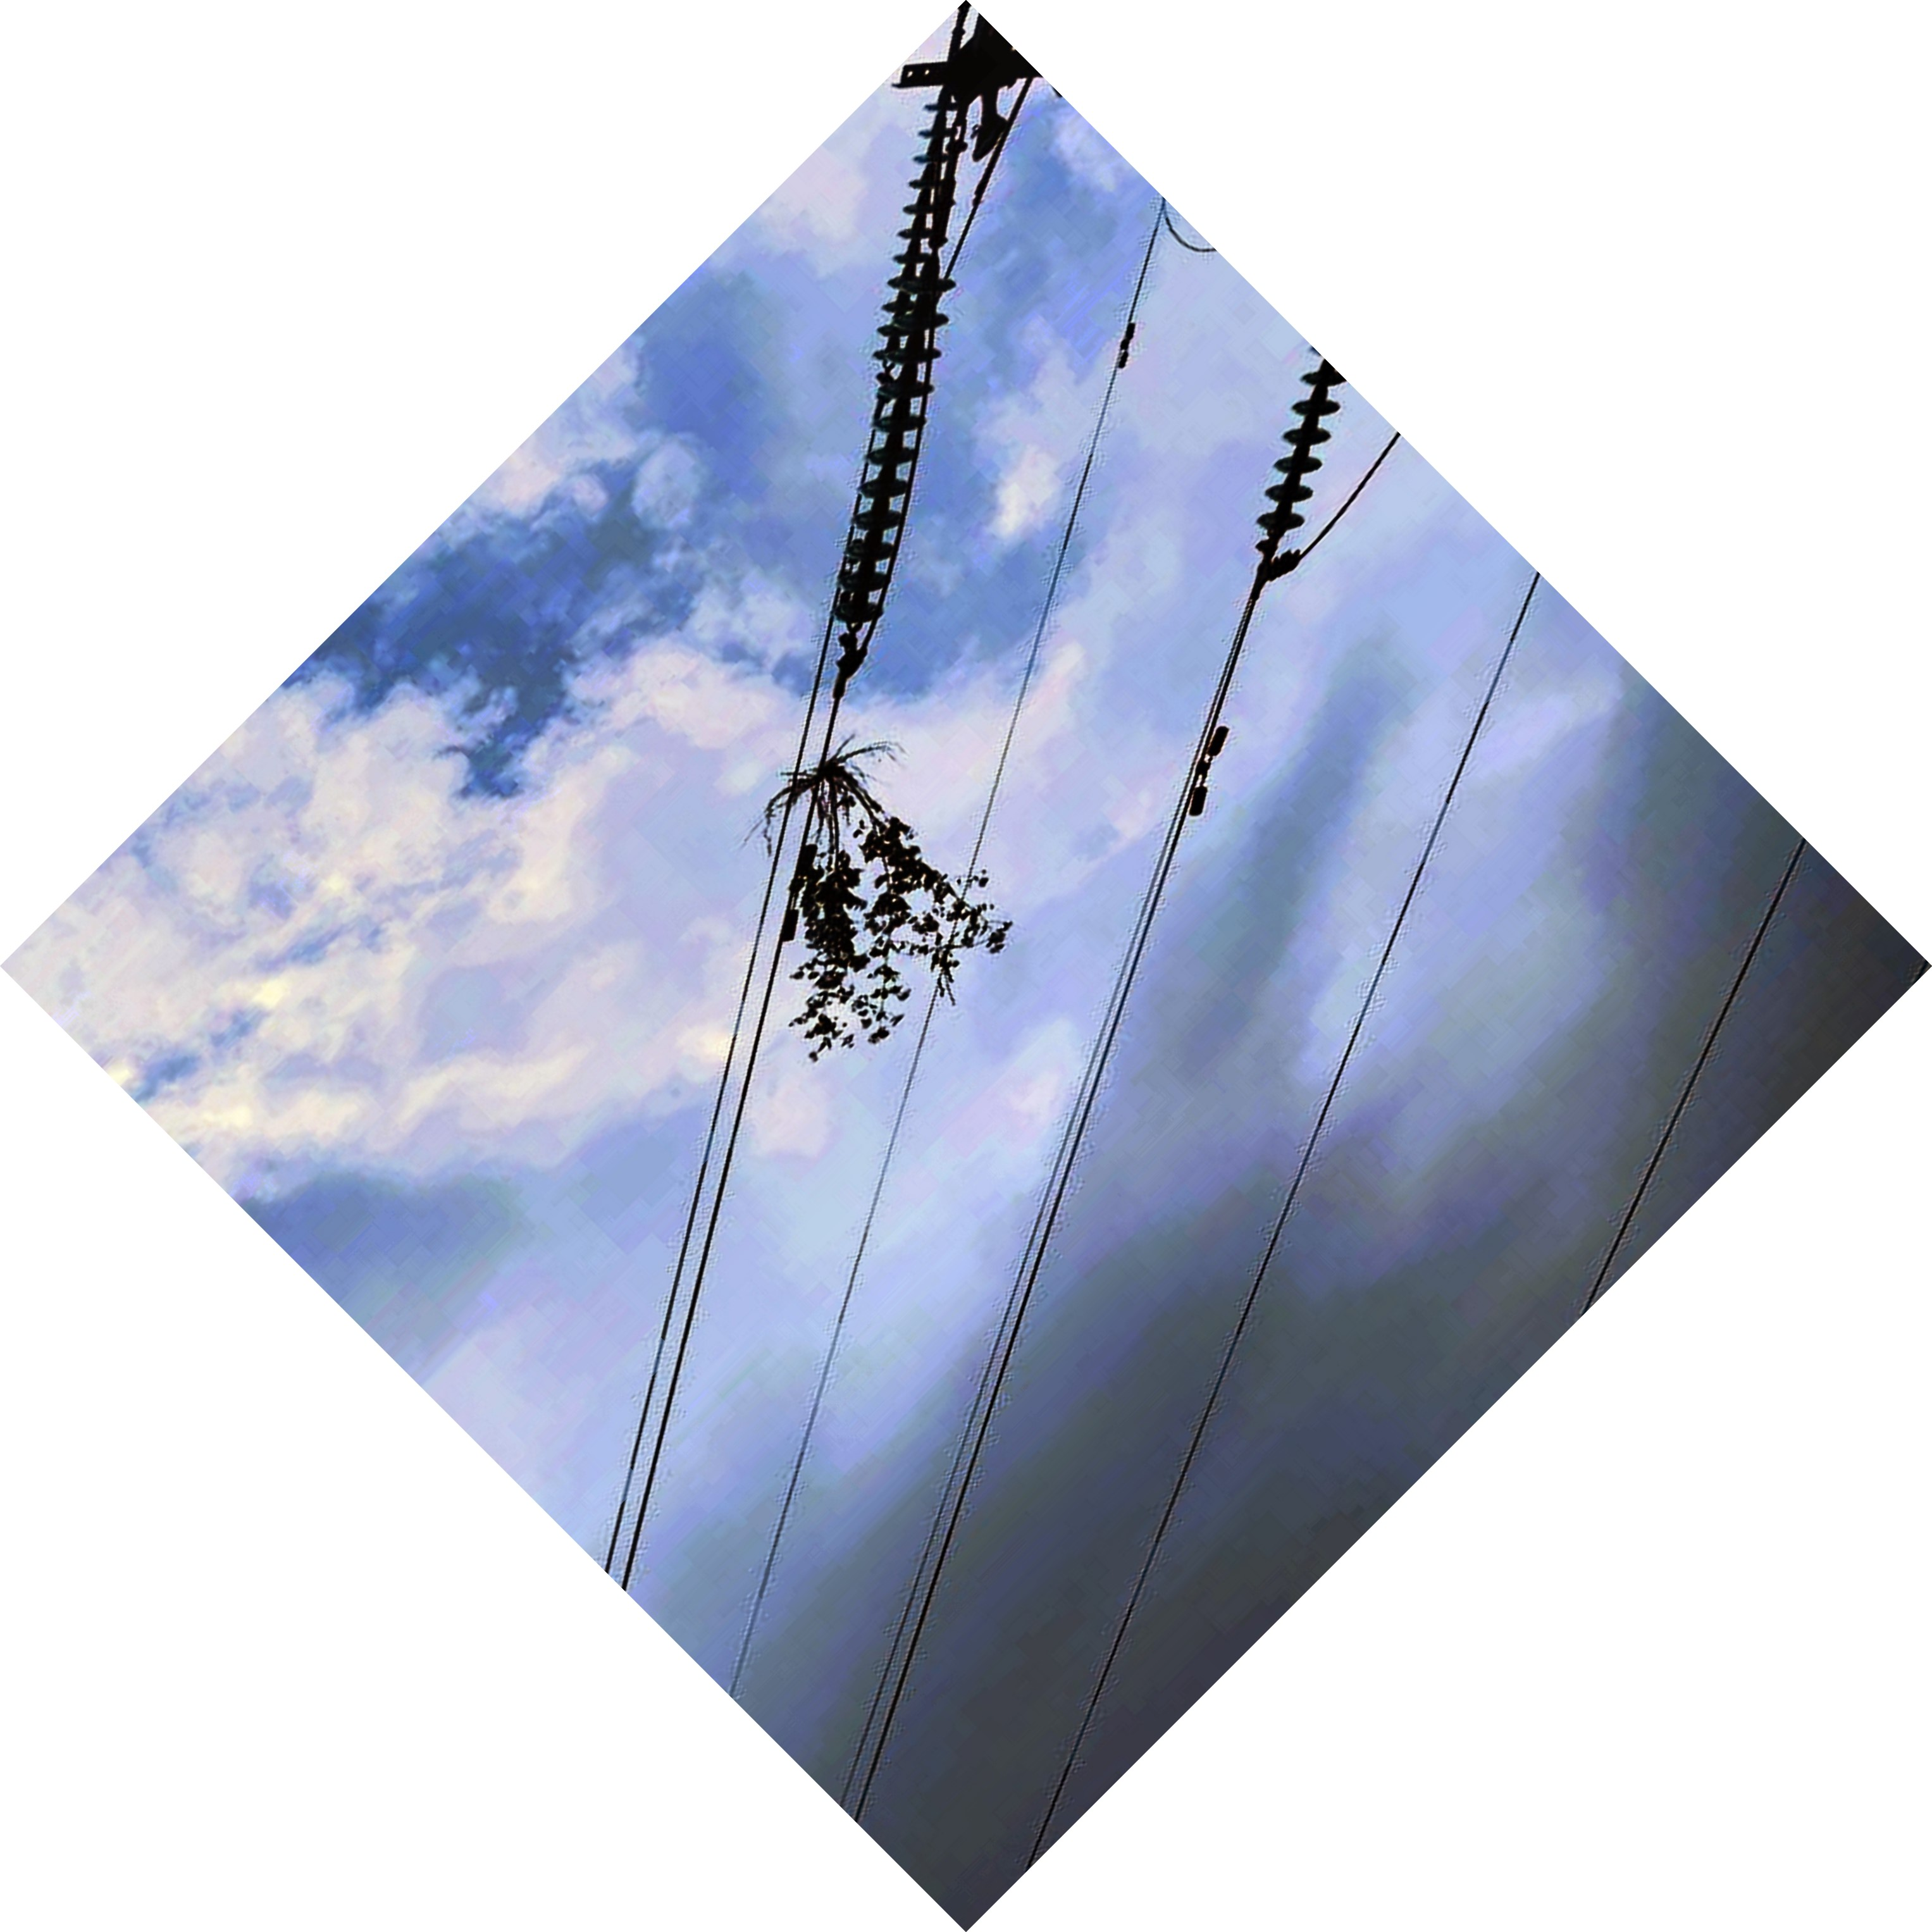wire foreign body: (745, 731, 1001, 1056)
